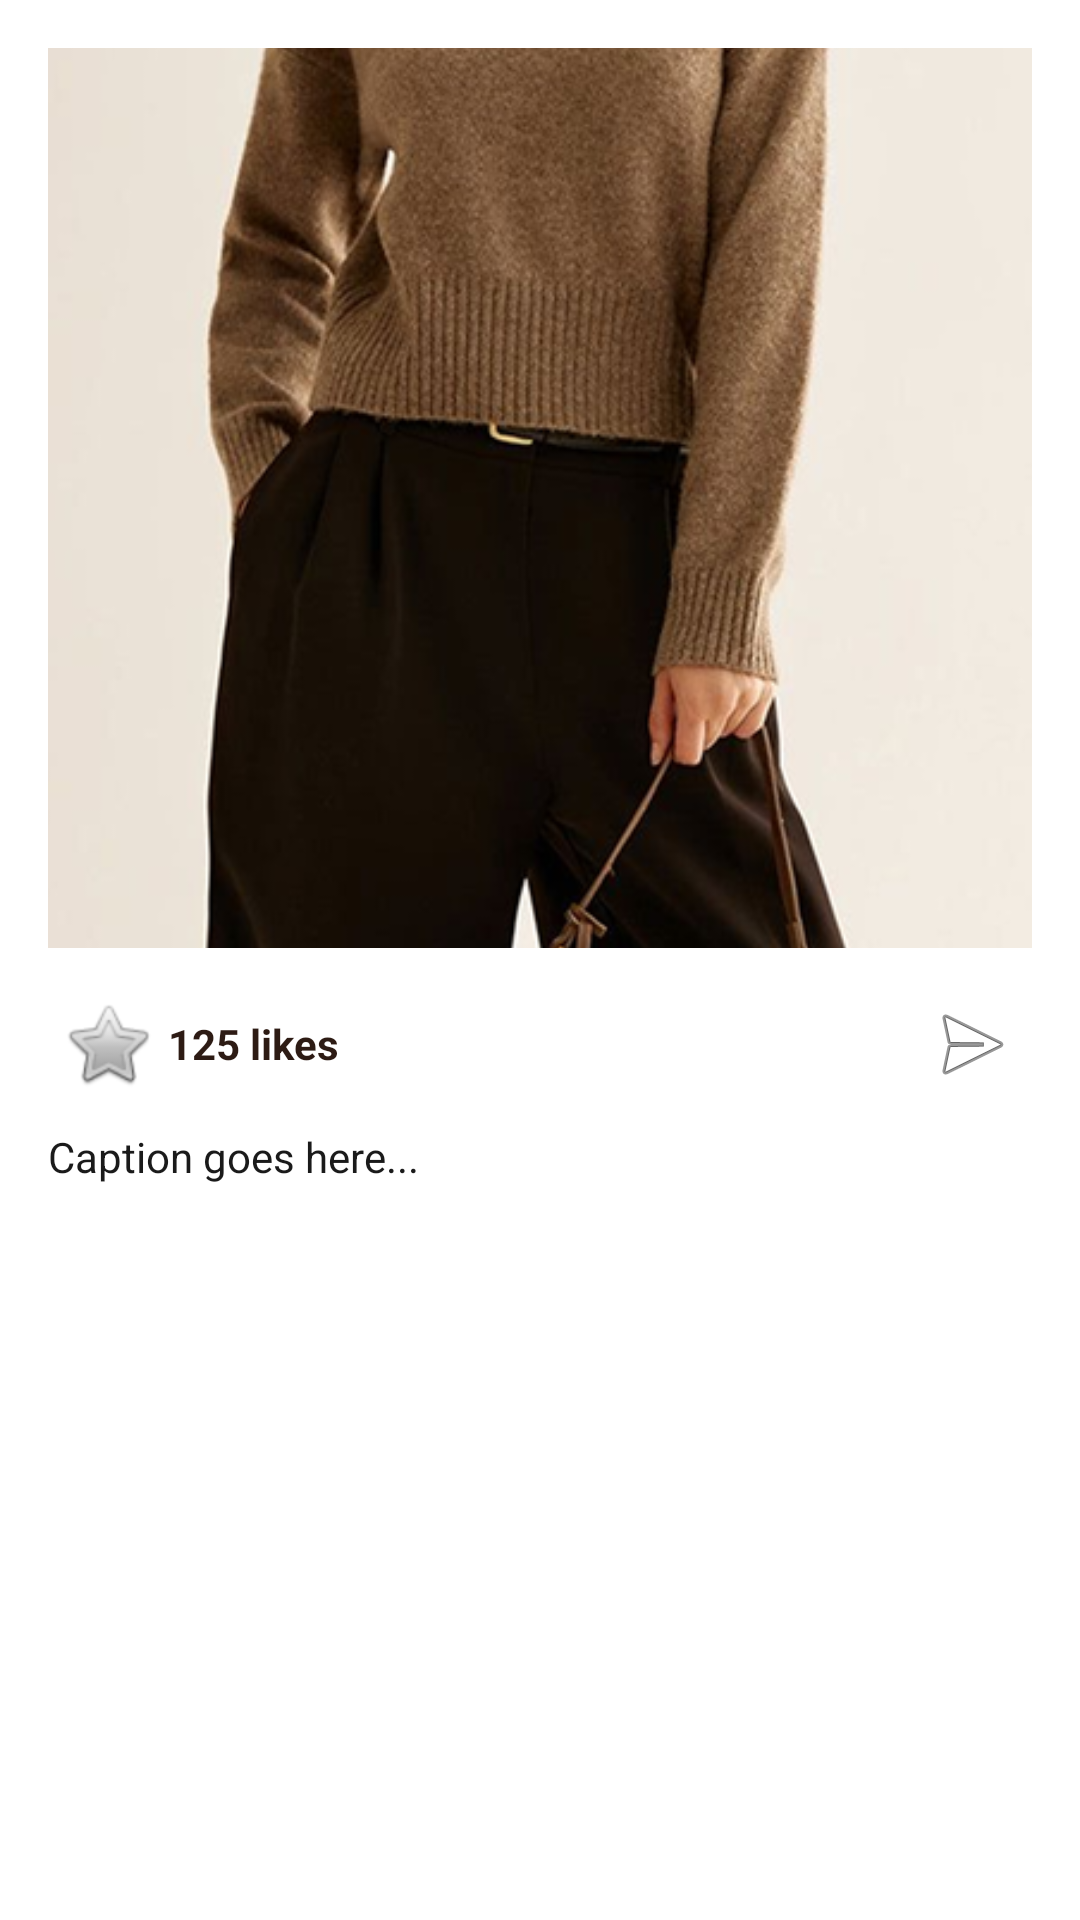

Point at icon controls on the screen. Image size 1080×1920, points as [x,y].
send: [973,1044]
star off: [109,1045]
